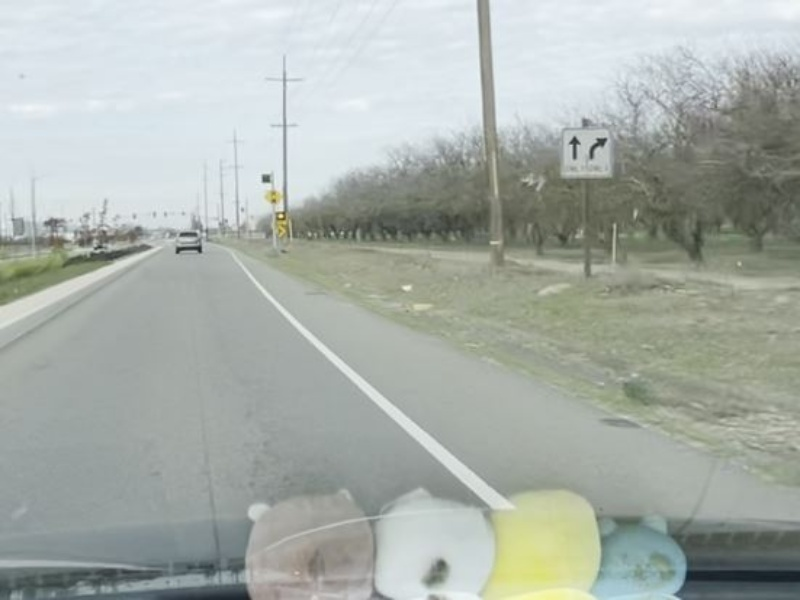street light sign: (260, 187, 283, 207)
turn sign: (557, 125, 616, 181)
